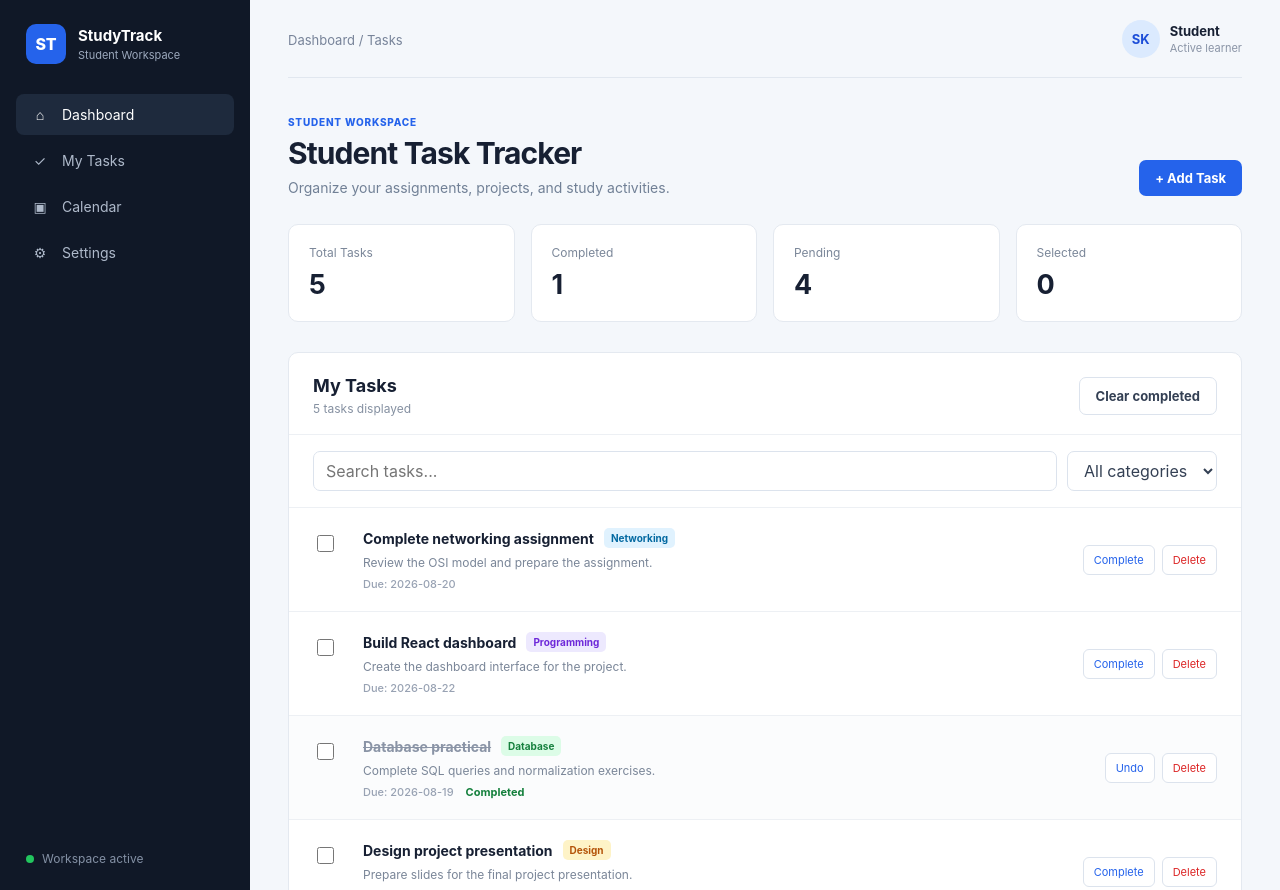
Scenario: filters tasks by category
Select "Database" in the dropdown named "Filter tasks by category". click: x=1142, y=471
box: 1067,451 -> 1217,491
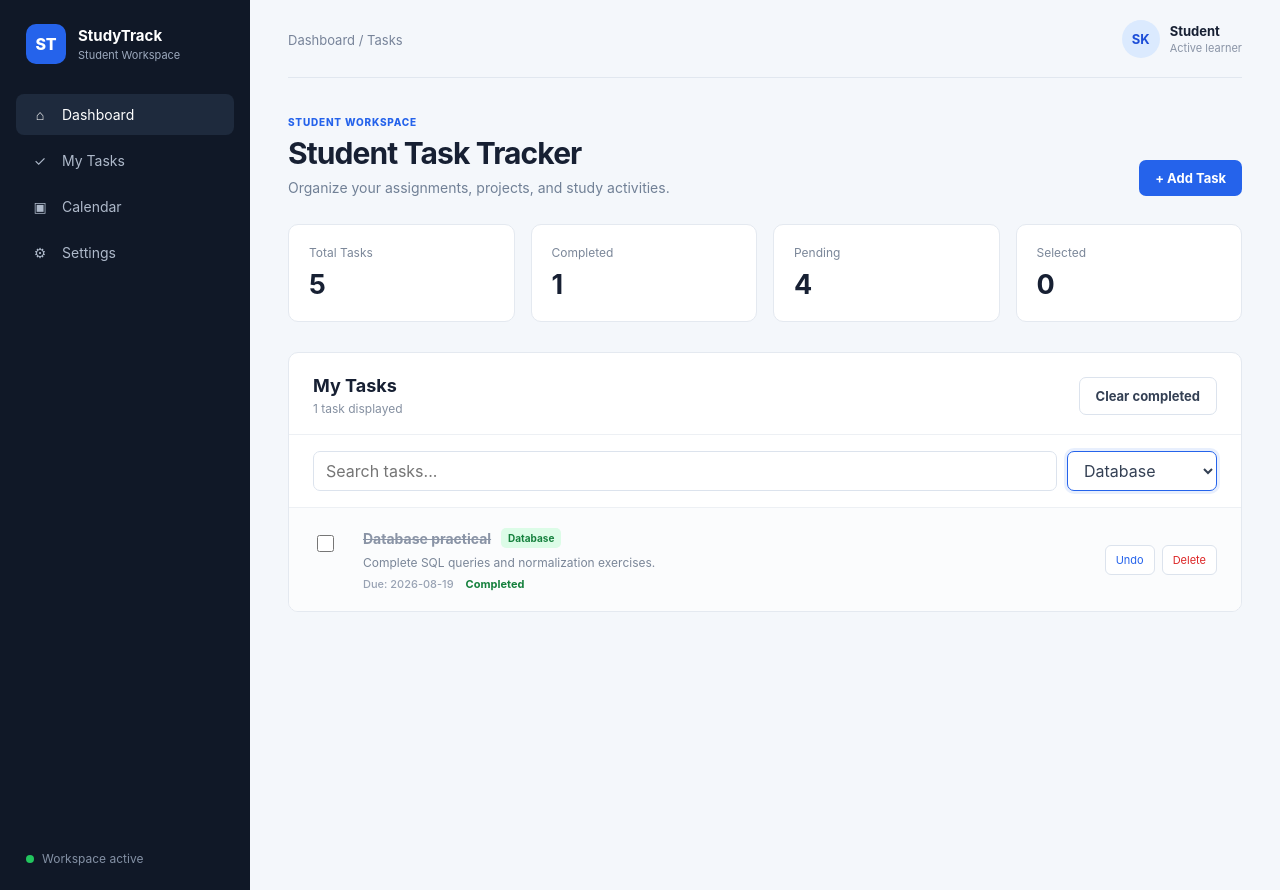
Expected: the heading "Database practical" is shown, 363,530 -> 491,546
Expected: the heading "Complete networking assignment" is gone
